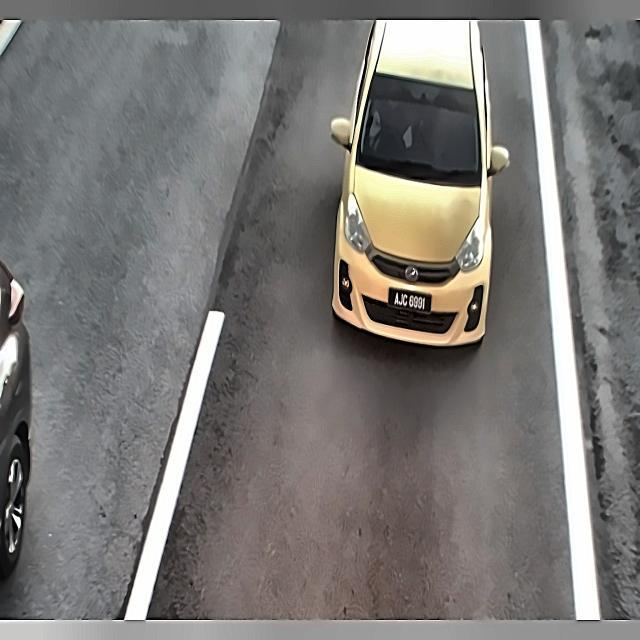car: (384, 281, 434, 322)
